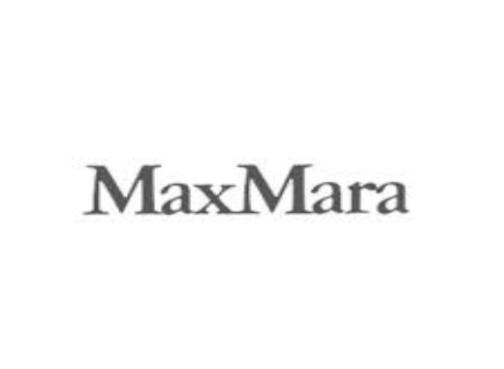MAX-MARA: (81, 161, 411, 215)
